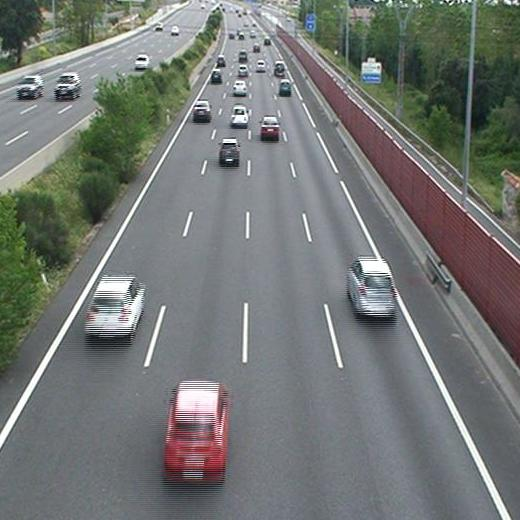car: (165, 382, 229, 473), (87, 278, 143, 332), (347, 258, 396, 316), (219, 139, 240, 161), (261, 117, 279, 135), (231, 106, 247, 124), (193, 101, 211, 117), (233, 81, 248, 94), (279, 79, 291, 93), (237, 64, 247, 75), (255, 61, 266, 71), (211, 70, 221, 80), (216, 56, 226, 66), (238, 50, 247, 60)
